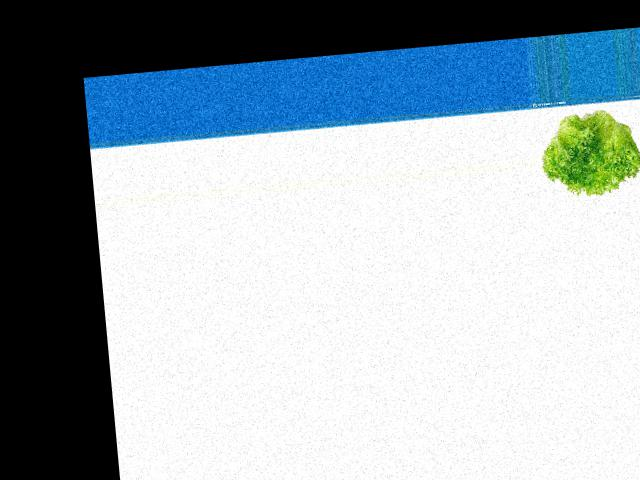lettuce: (537, 101, 640, 203)
